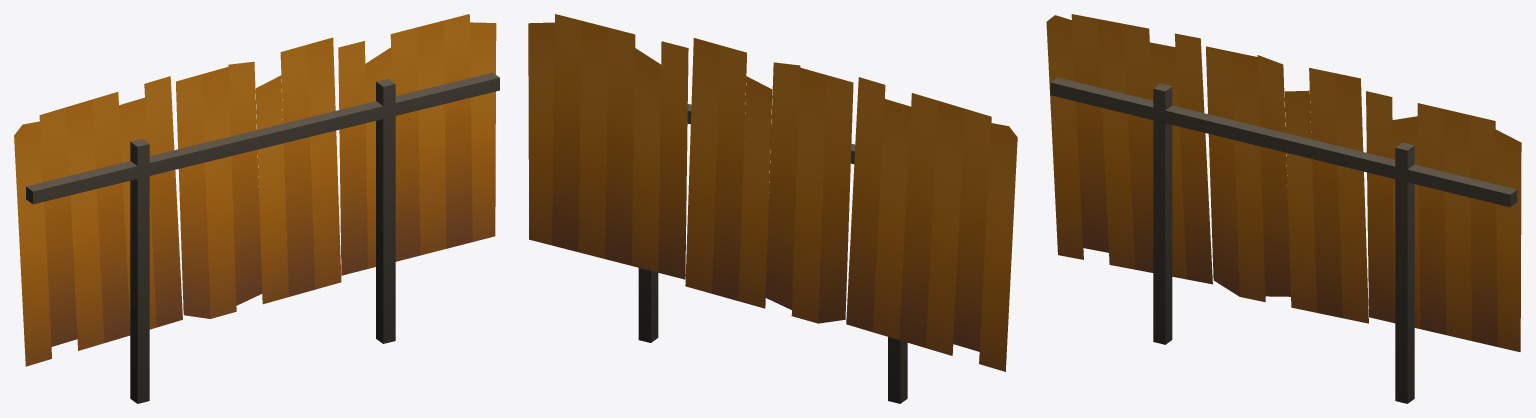
Rendered from Metal_Fence_1D.fbx.
3 views of the same model, side by side, from view 1: azimuth 30°, elevation 25°; view 2: azimuth 150°, elevation 25°; view 3: azimuth 330°, elevation 25° (orthographic). The views are drawn at different scales.
Parts seen in each view (by area): view 1: Metal_Fence_1D; view 2: Metal_Fence_1D; view 3: Metal_Fence_1D.
Part boxes in pixels (x1,y1,x2,y2): Metal_Fence_1D: (14, 14, 499, 403); Metal_Fence_1D: (528, 14, 1017, 403); Metal_Fence_1D: (1046, 14, 1521, 403).
Size of the model in its own units: 392 by 243 by 10.86.
